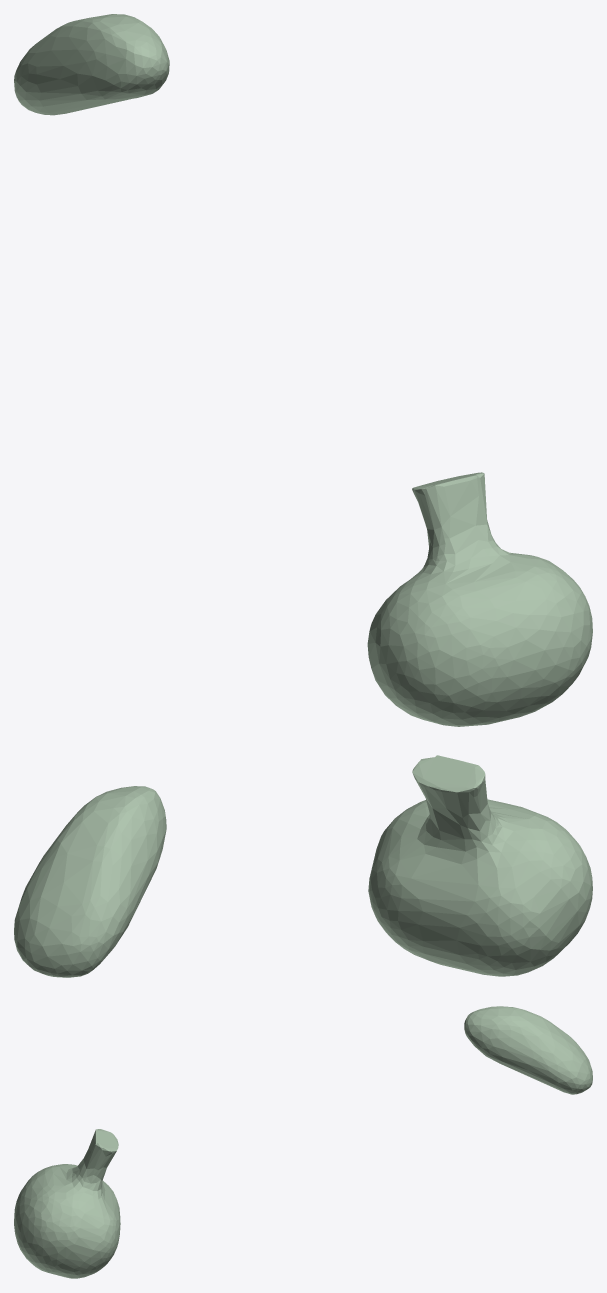
The model's file is endocrine.glb.
3 renders of one model, top to bottom at view 1: azimuth 30°, elevation 25°; view 2: azimuth 150°, elevation 25°; view 3: azimuth 270°, elevation 25°, orthographic. The views are drawn at different scales.
Parts seen in each view (by area): view 1: FJ1796, FJ1795; view 2: FJ1796, FJ1795; view 3: FJ1796, FJ1795.
Boxes of the visible parts, x1,y1,x2,y2 form: FJ1796: (367, 472, 592, 726); FJ1795: (14, 14, 169, 115); FJ1796: (368, 755, 592, 976); FJ1795: (14, 786, 166, 977); FJ1796: (14, 1129, 120, 1278); FJ1795: (464, 1006, 592, 1094).
Bounding box in the file's own units: 0.0123 × 0.0253 × 0.0514.
